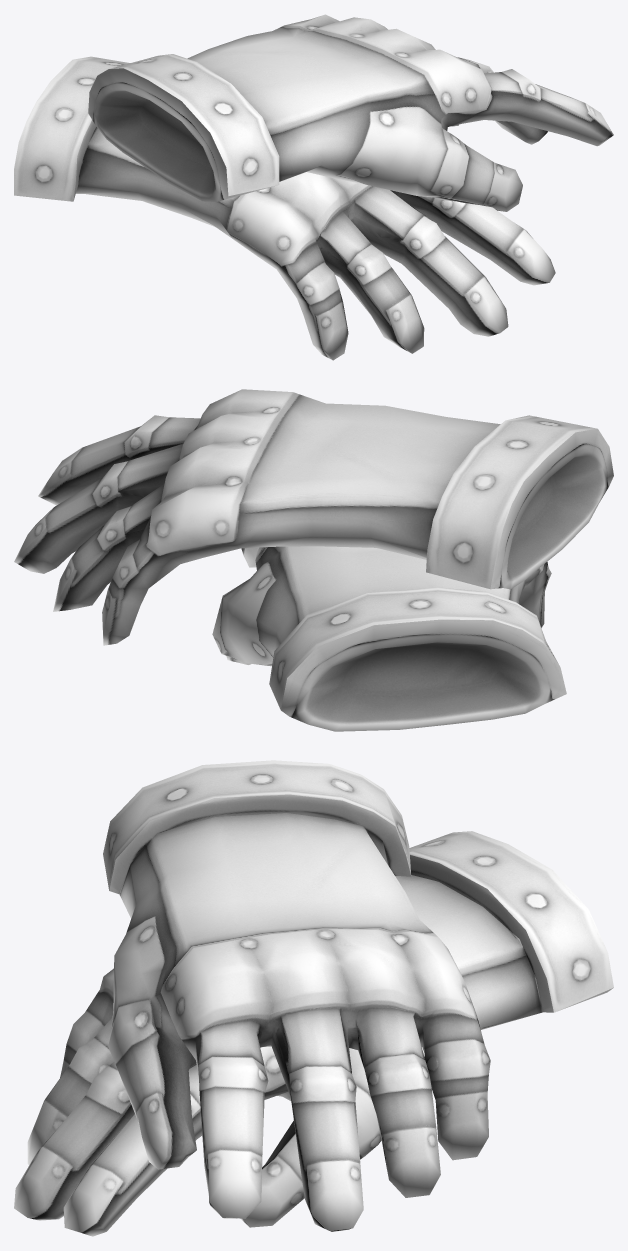
The model's file is 040_plate_gauntlets.fbx.
The picture shows the model from 3 angles, top to bottom: view 1: azimuth 30°, elevation 25°; view 2: azimuth 150°, elevation 25°; view 3: azimuth 270°, elevation 25°; orthographic projection. The views are drawn at different scales.
Parts seen in each view (by area): view 1: 040_plate_gauntlets; view 2: 040_plate_gauntlets; view 3: 040_plate_gauntlets.
Part boxes in pixels (left/top/right/bottom): 040_plate_gauntlets: left=14, top=14, right=613, bottom=360; 040_plate_gauntlets: left=14, top=389, right=613, bottom=731; 040_plate_gauntlets: left=14, top=760, right=613, bottom=1236.
Bounding box in the file's own units: 39.87 × 18.01 × 31.89.
